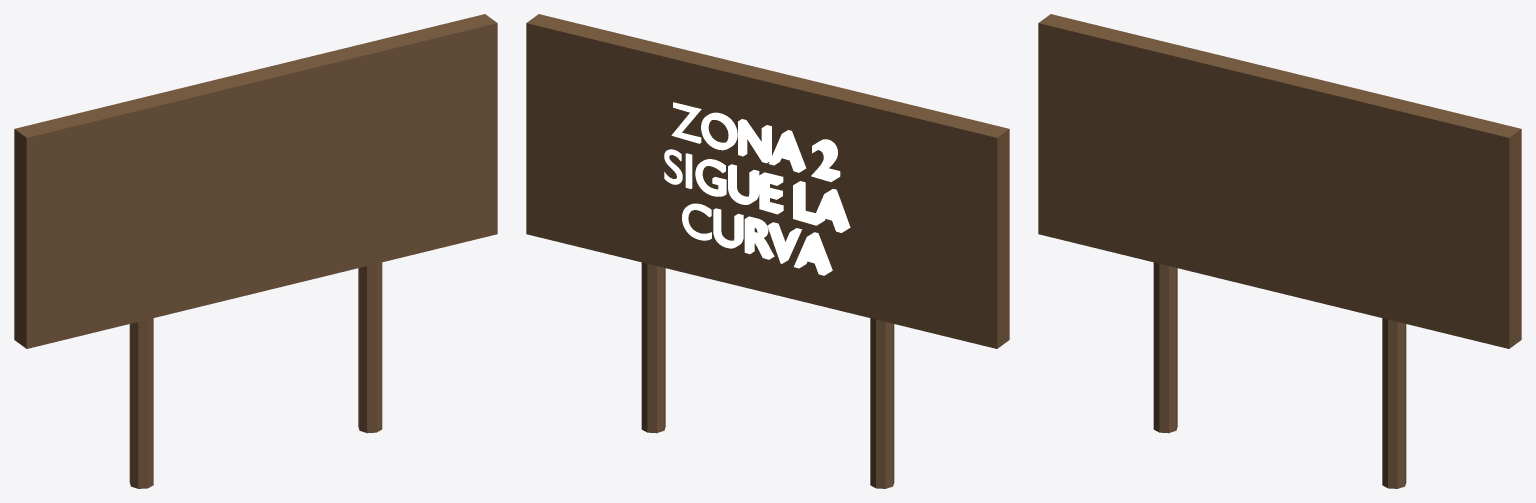
Rendered from cartel_z2_texto_lev1.glb.
The picture shows the model from 3 angles, left to right: view 1: azimuth 30°, elevation 25°; view 2: azimuth 150°, elevation 25°; view 3: azimuth 330°, elevation 25°; orthographic projection.
Visible parts, largest first — view 1: cartel_z2_texto_lev1; view 2: cartel_z2_texto_lev1; view 3: cartel_z2_texto_lev1.
Part boxes in pixels (x1,y1,x2,y2): cartel_z2_texto_lev1: [14, 14, 497, 488]; cartel_z2_texto_lev1: [526, 14, 1009, 488]; cartel_z2_texto_lev1: [1038, 14, 1521, 488].
Bounding box in the file's own units: 3.5 × 2.7 × 0.2721.
